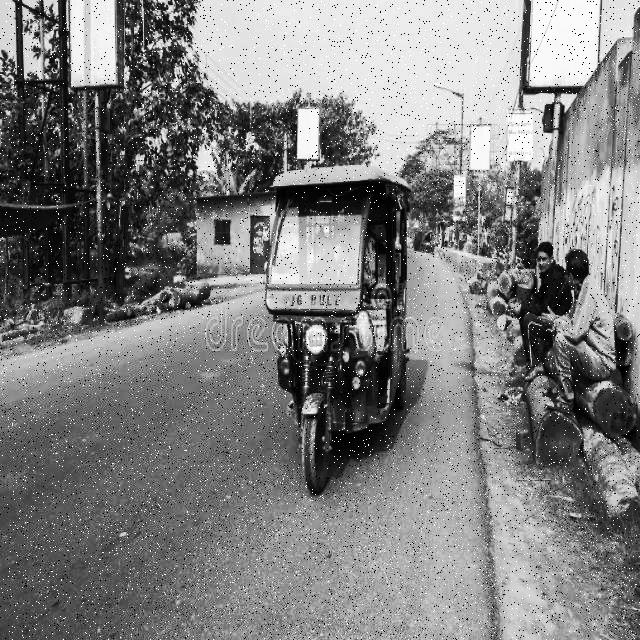Toto: (258, 159, 417, 486)
